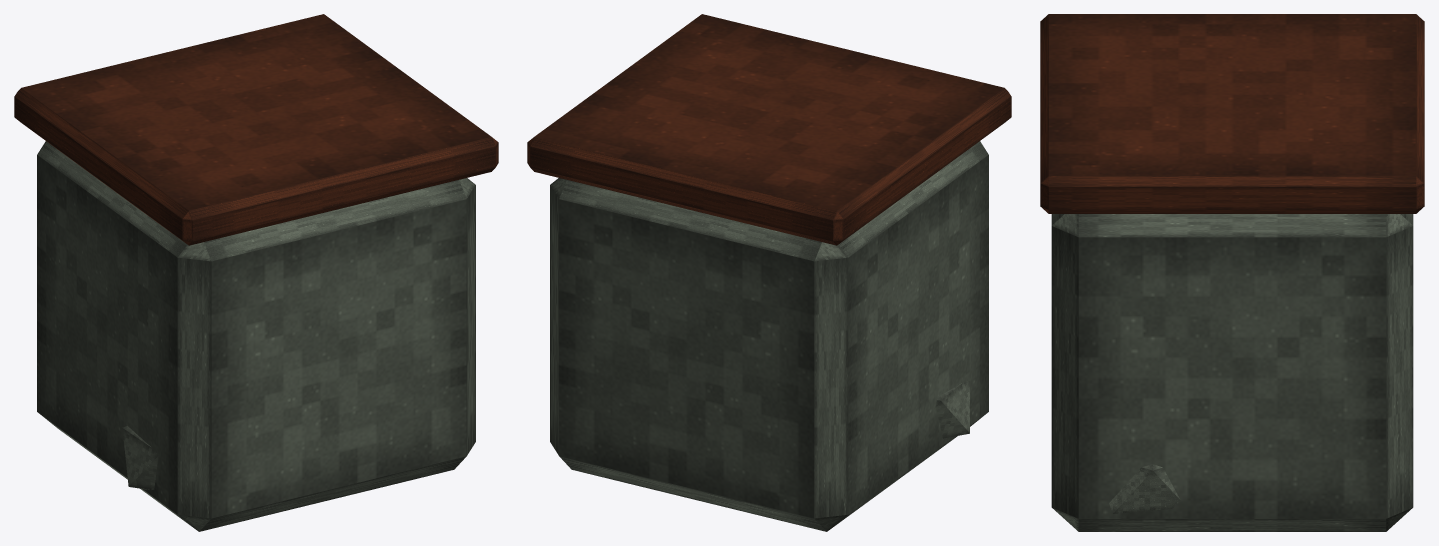
File: THStage_FindSupport_09.fbx
3 views of the same model, side by side, from view 1: azimuth 30°, elevation 25°; view 2: azimuth 150°, elevation 25°; view 3: azimuth 270°, elevation 25° (orthographic). The views are drawn at different scales.
Visible parts, largest first — view 1: THStage_FindSupport_09.009; view 2: THStage_FindSupport_09.009; view 3: THStage_FindSupport_09.009.
Part boxes in pixels (<box>): THStage_FindSupport_09.009: <box>14,14,498,531</box>; THStage_FindSupport_09.009: <box>527,14,1011,531</box>; THStage_FindSupport_09.009: <box>1040,14,1424,531</box>.
Bounding box in the file's own units: 0.2702 × 0.27 × 0.255.
1 material, 1 textured.
